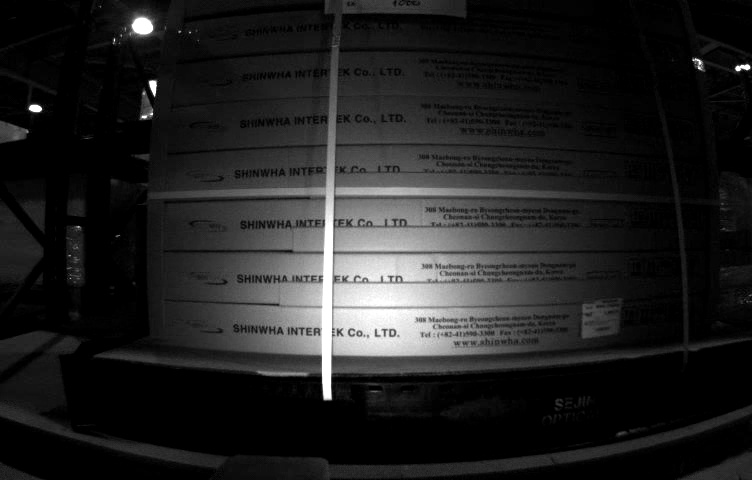True Barcode: (582, 298, 622, 336)
